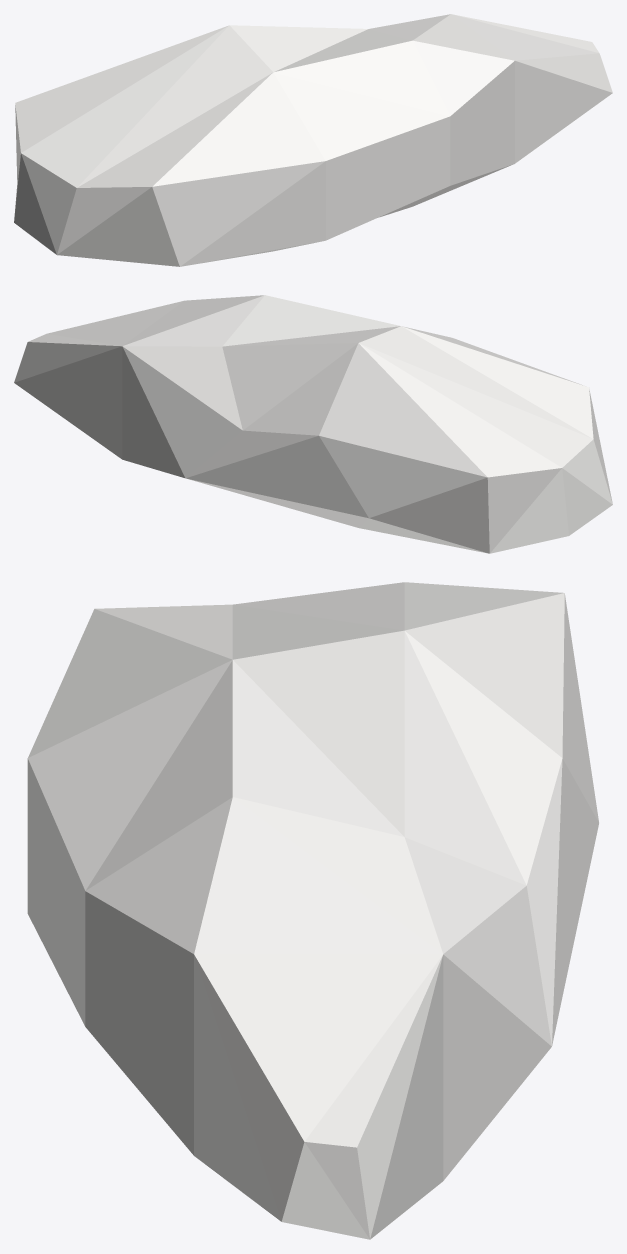
Rendered from Cloud_2.fbx.
3 renders of one model, top to bottom at view 1: azimuth 30°, elevation 25°; view 2: azimuth 150°, elevation 25°; view 3: azimuth 270°, elevation 25°, orthographic. The views are drawn at different scales.
Visible parts, largest first — view 1: Cloud_2; view 2: Cloud_2; view 3: Cloud_2.
Part boxes in pixels (<box>): Cloud_2: <box>14,14,612,266</box>; Cloud_2: <box>14,295,612,553</box>; Cloud_2: <box>27,582,598,1239</box>.
Bounding box in the file's own units: 466 × 204 × 149.
